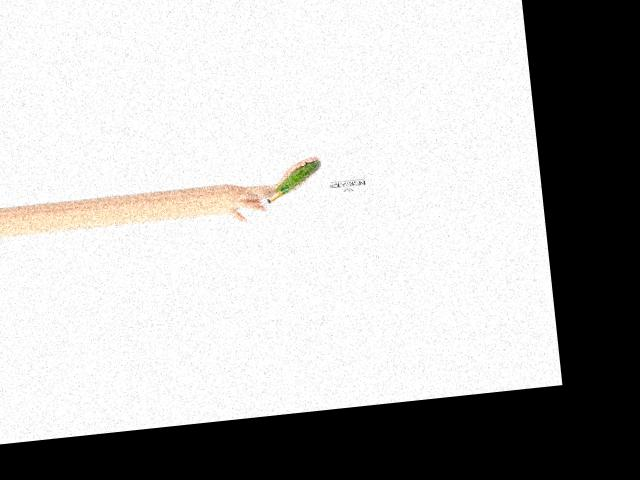cucumber: (273, 160, 323, 195)
